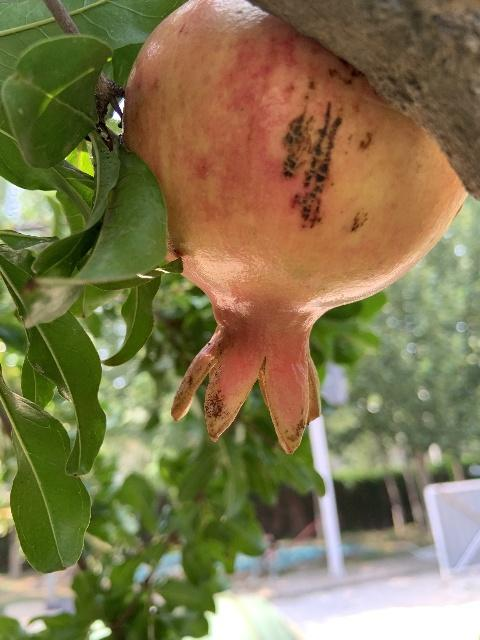ripe: (123, 0, 466, 453)
